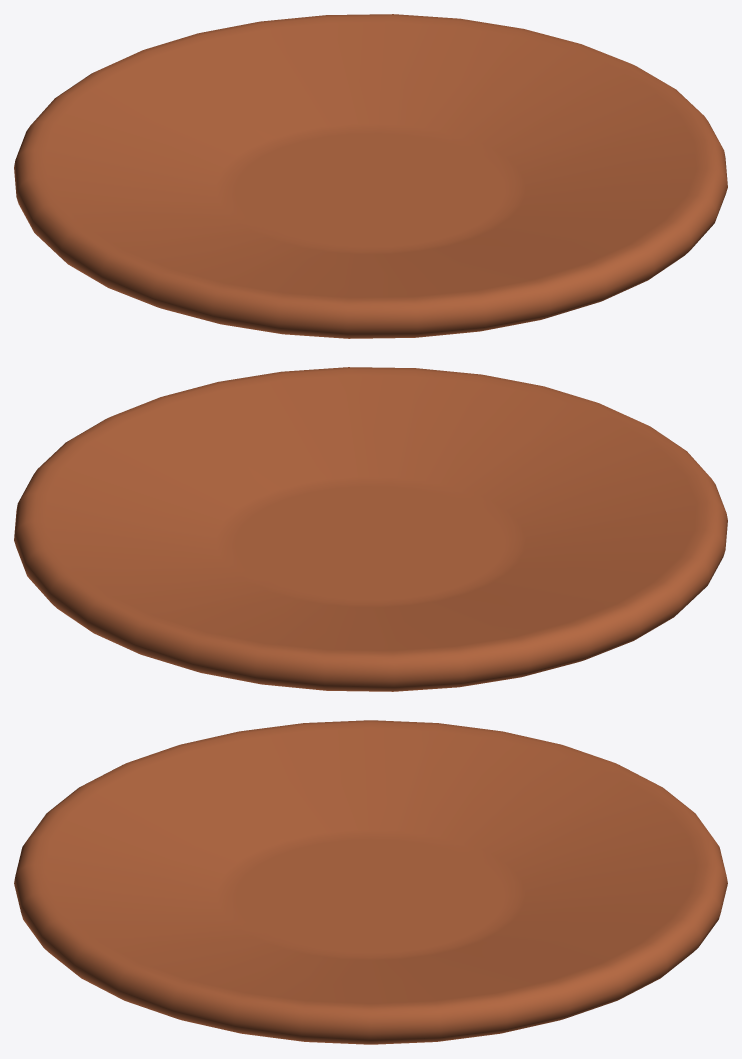
Rendered from SM_coffee_mug_plate_red.fbx.
3 views of the same model, one above another, from view 1: azimuth 30°, elevation 25°; view 2: azimuth 150°, elevation 25°; view 3: azimuth 270°, elevation 25° (orthographic).
Parts seen in each view (by area): view 1: SM_coffee_mug_plate_red; view 2: SM_coffee_mug_plate_red; view 3: SM_coffee_mug_plate_red.
Part boxes in pixels (bbox=[...]): SM_coffee_mug_plate_red: bbox=[14, 14, 727, 338]; SM_coffee_mug_plate_red: bbox=[14, 367, 727, 691]; SM_coffee_mug_plate_red: bbox=[14, 720, 727, 1044].
Bounding box in the file's own units: 32.09 × 3.49 × 32.09.
Materials: 1 (1 with a texture image).
